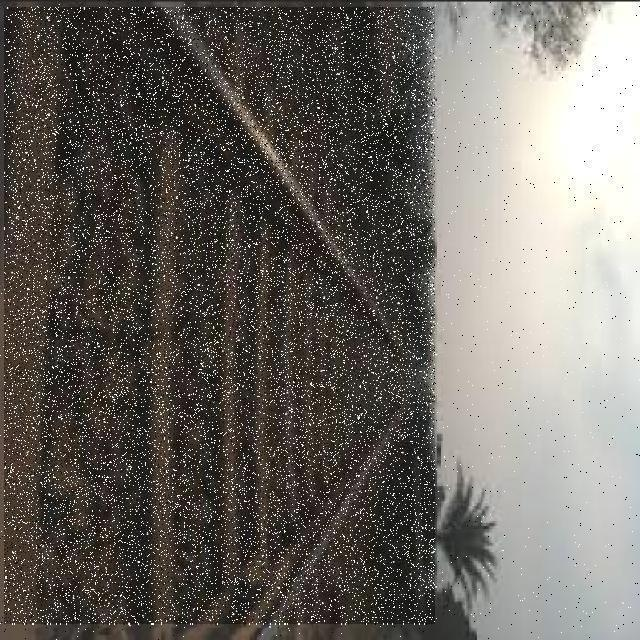rail: (6, 8, 436, 625)
